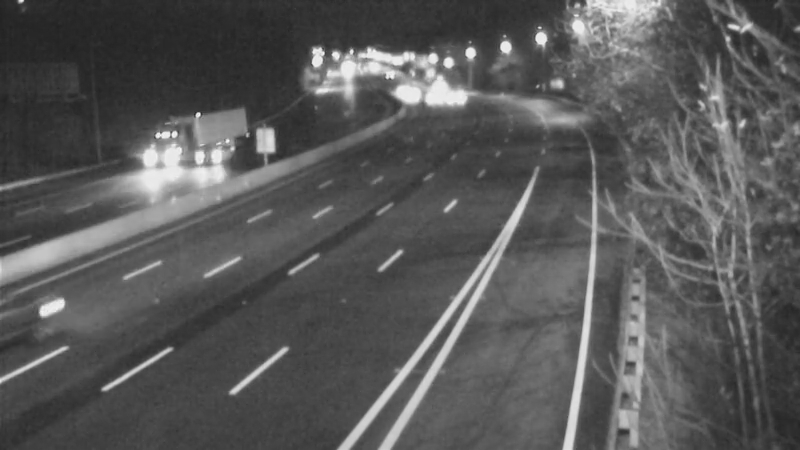vehicle: (125, 112, 205, 192), (176, 118, 256, 198), (363, 50, 413, 100), (410, 63, 460, 113), (385, 71, 435, 121), (421, 68, 471, 118), (403, 75, 453, 125)
